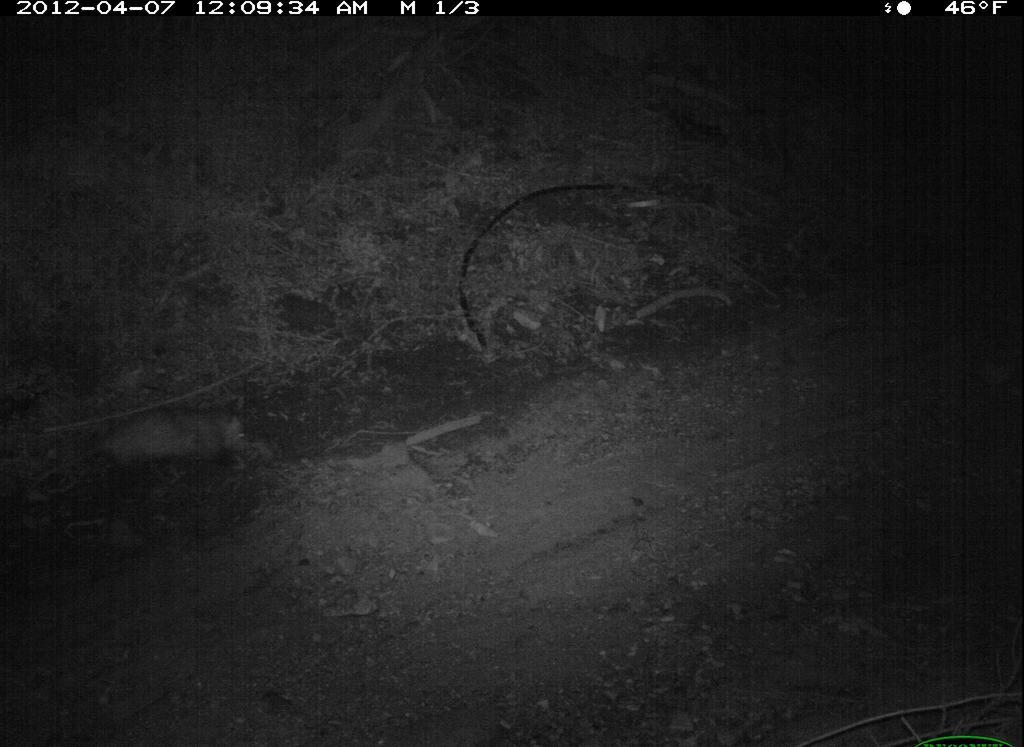opossum: (33, 397, 258, 488)
